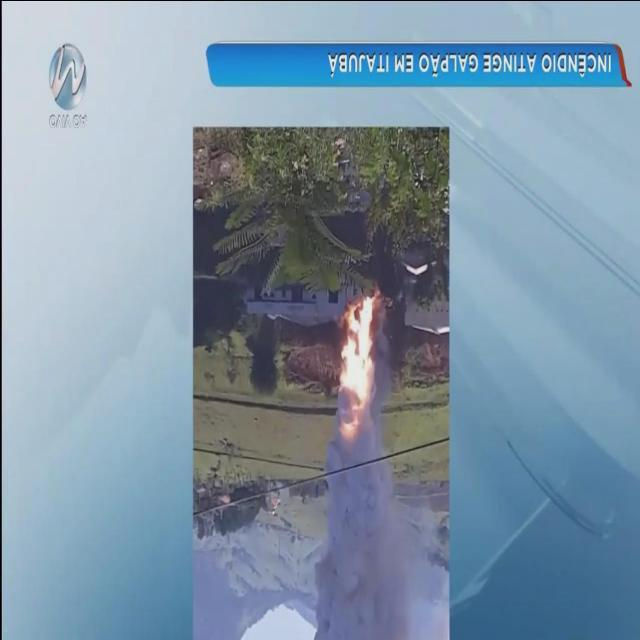Fire: (332, 288, 384, 450)
